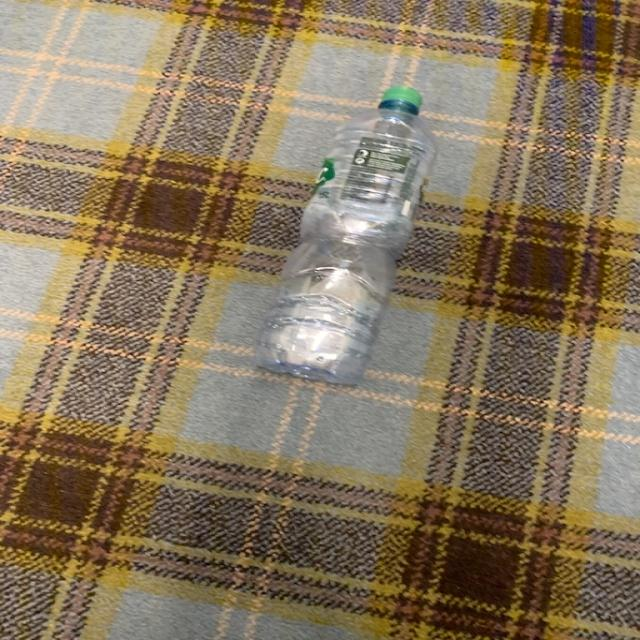litter: (252, 85, 438, 390)
